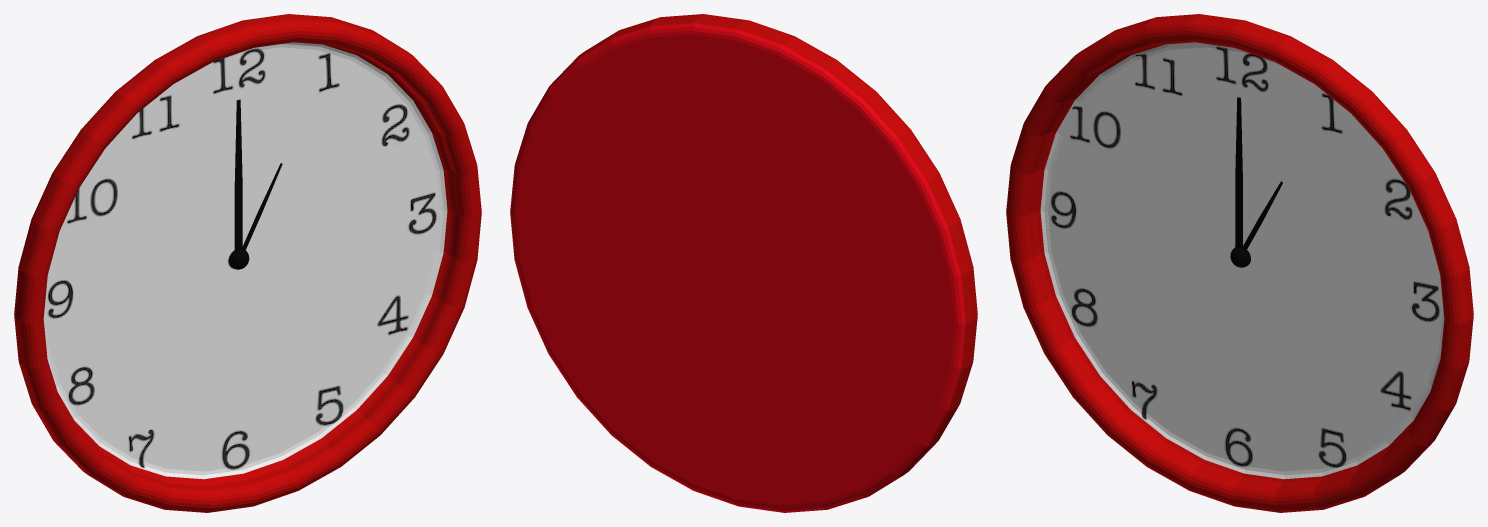
The model's file is zegar2.fbx.
The picture shows the model from 3 angles, left to right: view 1: azimuth 30°, elevation 25°; view 2: azimuth 150°, elevation 25°; view 3: azimuth 330°, elevation 25°; orthographic projection.
Visible parts, largest first — view 1: Cylinder; view 2: Cylinder; view 3: Cylinder.
Part boxes in pixels (x1=…): Cylinder: x1=14, y1=14, x2=481, y2=512; Cylinder: x1=510, y1=14, x2=977, y2=512; Cylinder: x1=1006, y1=14, x2=1473, y2=512.
Bounding box in the file's own units: 200 × 200 × 12.94.
4 materials, 1 textured.
